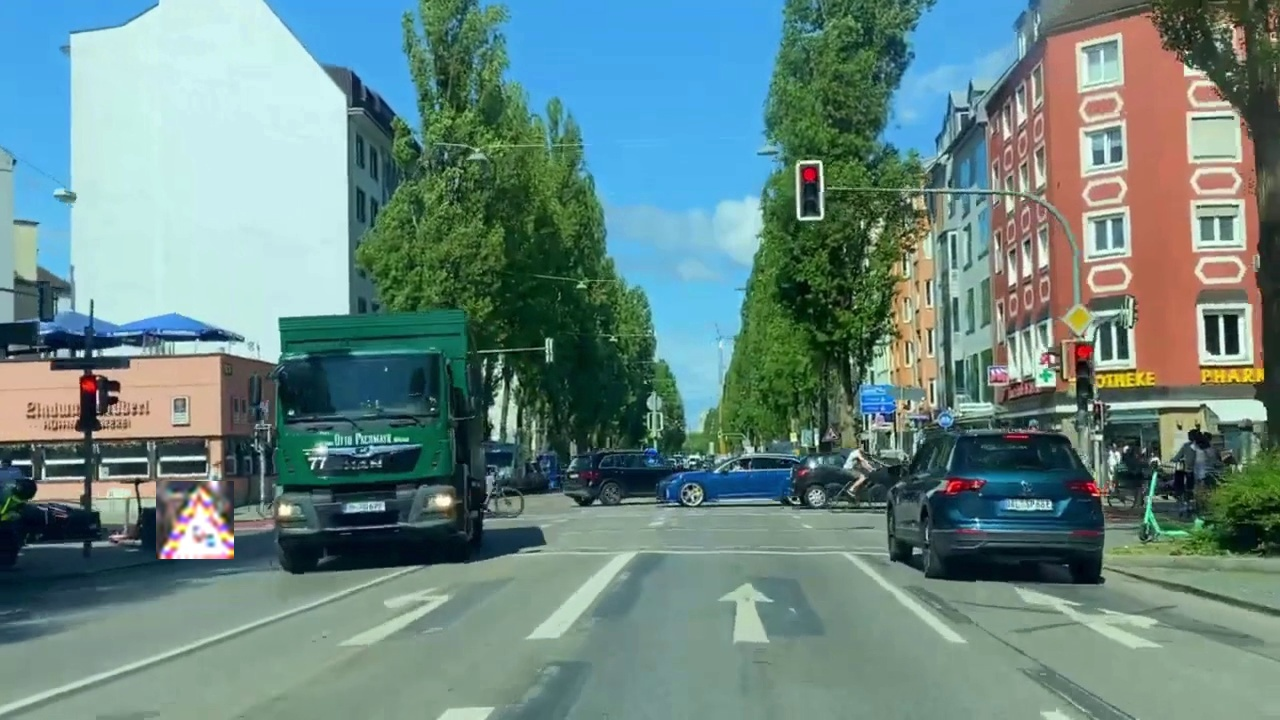Double curve: (156, 481, 234, 559)
